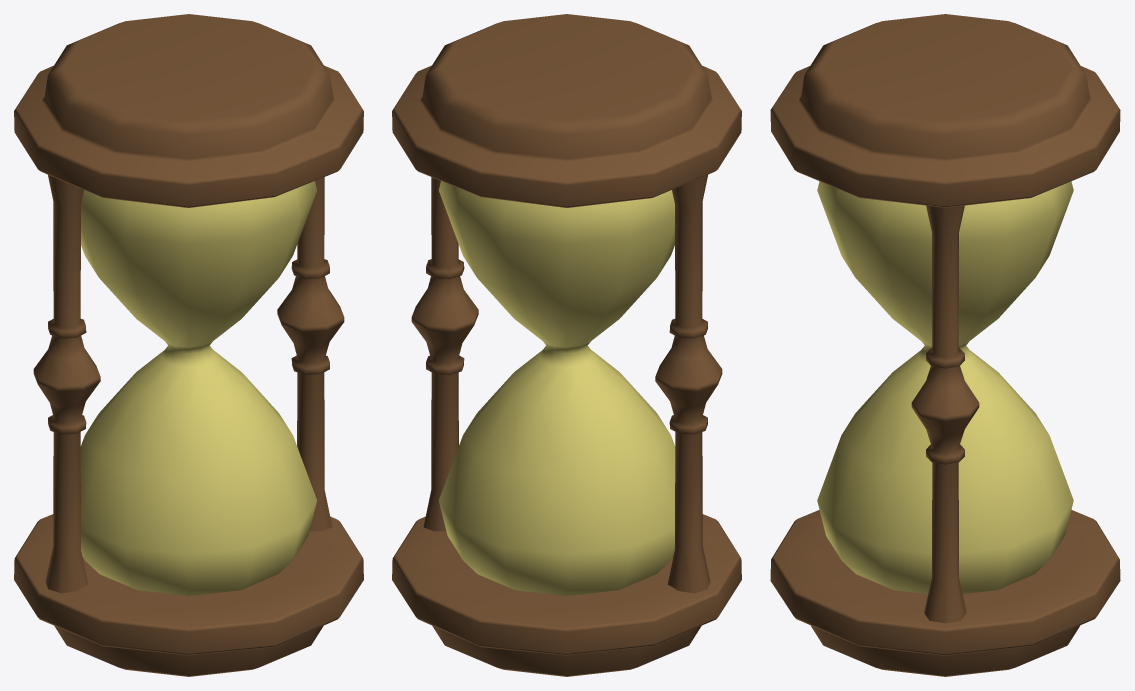
Rendered from Hourglass.fbx.
3 renders of one model, left to right at view 1: azimuth 30°, elevation 25°; view 2: azimuth 150°, elevation 25°; view 3: azimuth 270°, elevation 25°, orthographic.
Parts seen in each view (by area): view 1: polySurface2, polySurface1, pCube1; view 2: polySurface2, polySurface1, pCube1; view 3: polySurface2, polySurface1, pCube1.
Boxes of the visible parts, left/top/right/bottom form: polySurface2: left=14, top=14, right=363, bottom=676; polySurface1: left=80, top=181, right=317, bottom=595; pCube1: left=33, top=175, right=344, bottom=593; polySurface2: left=392, top=14, right=741, bottom=676; polySurface1: left=438, top=181, right=675, bottom=595; pCube1: left=411, top=175, right=722, bottom=593; polySurface2: left=770, top=14, right=1120, bottom=676; polySurface1: left=817, top=181, right=1073, bottom=593; pCube1: left=911, top=205, right=979, bottom=623.
Size of the model in its own units: 21.88 by 38.39 by 21.89.
